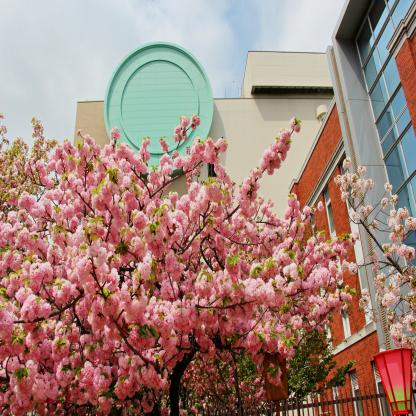YaeSakura: (0, 110, 366, 416), (335, 149, 416, 350), (176, 342, 271, 416)
